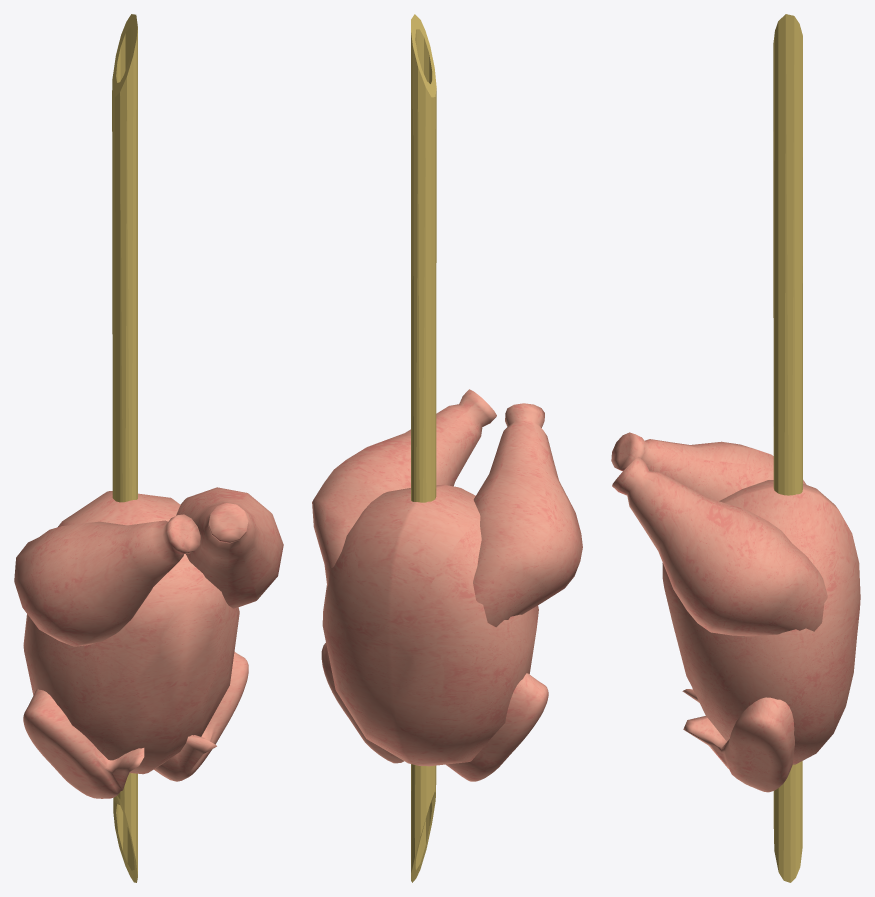
File: Pole_Bamboo_OneChickenRaw.glb
3 views of the same model, side by side, from view 1: azimuth 30°, elevation 25°; view 2: azimuth 150°, elevation 25°; view 3: azimuth 270°, elevation 25° (orthographic).
Parts seen in each view (by area): view 1: Chicken Raw, Cylinder; view 2: Chicken Raw, Cylinder; view 3: Chicken Raw, Cylinder.
Boxes of the visible parts, x1,y1,x2,y2 form: Chicken Raw: [14, 487, 283, 798]; Cylinder: [112, 14, 137, 882]; Chicken Raw: [312, 389, 582, 781]; Cylinder: [411, 14, 436, 882]; Chicken Raw: [611, 432, 860, 792]; Cylinder: [773, 14, 802, 882].
Bounding box in the file's own units: 0.9061 × 3.02 × 0.785.
2 materials, 1 textured.
